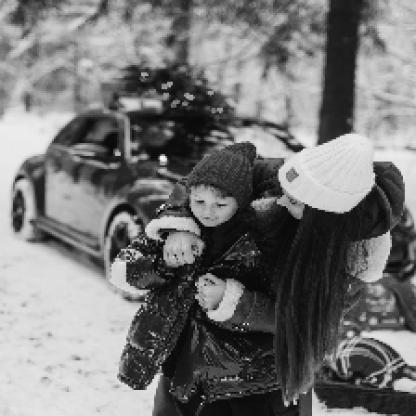child: (111, 140, 260, 415)
